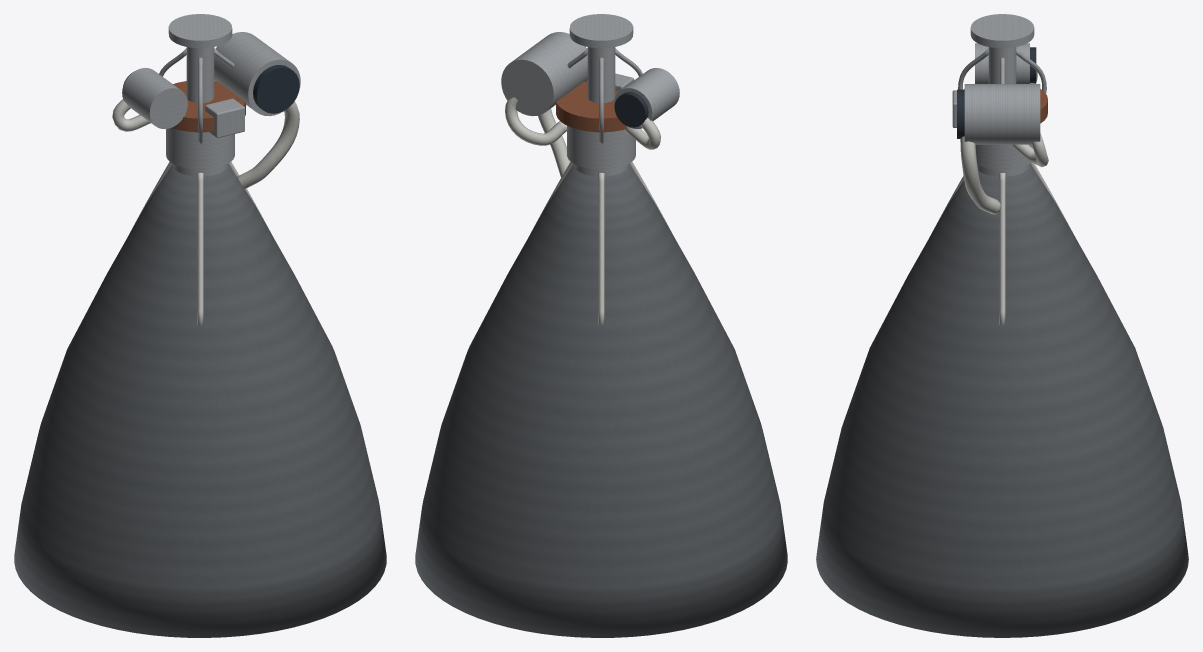
3 renders of one model, left to right at view 1: azimuth 30°, elevation 25°; view 2: azimuth 150°, elevation 25°; view 3: azimuth 270°, elevation 25°, orthographic.
Visible parts, largest first — view 1: BE3U_VacuumNozzle, Hydrogen_Turbopump, Oxygen_Pump, Combustion_Chamber.002, Gimbal_Flange.002, Hydrogen_PumpCap, Hydrogen_Feed.002, Gimbal_Stem.018, Injector_Manifold.002, Valve_Housing, Nozzle_CoolingLine.002, Oxygen_Feed; view 2: BE3U_VacuumNozzle, Hydrogen_Turbopump, Combustion_Chamber.002, Injector_Manifold.002, Gimbal_Flange.002, Oxygen_Pump, Gimbal_Stem.018, Expander_Return, Nozzle_CoolingLine.001, Oxygen_PumpCap, Hydrogen_Feed.002, Oxygen_Feed; view 3: BE3U_VacuumNozzle, Hydrogen_Turbopump, Gimbal_Flange.002, Hydrogen_Feed.002, Combustion_Chamber.002, Nozzle_CoolingLine, Oxygen_Pump, Gimbal_Stem.018, Expander_Return.
Part boxes in pixels (<box>): BE3U_VacuumNozzle: <box>14,164,386,637</box>; Hydrogen_Turbopump: <box>214,32,300,116</box>; Oxygen_Pump: <box>122,68,187,128</box>; Combustion_Chamber.002: <box>166,128,234,169</box>; Gimbal_Flange.002: <box>168,14,232,48</box>; Hydrogen_PumpCap: <box>253,65,299,113</box>; Hydrogen_Feed.002: <box>237,101,299,189</box>; Gimbal_Stem.018: <box>186,47,214,102</box>; Injector_Manifold.002: <box>171,81,245,132</box>; Valve_Housing: <box>205,98,244,138</box>; Nozzle_CoolingLine.002: <box>197,172,203,324</box>; Oxygen_Feed: <box>112,99,150,131</box>; BE3U_VacuumNozzle: <box>415,164,787,637</box>; Hydrogen_Turbopump: <box>501,32,587,116</box>; Combustion_Chamber.002: <box>567,125,635,169</box>; Injector_Manifold.002: <box>556,81,625,132</box>; Gimbal_Flange.002: <box>569,14,633,48</box>; Oxygen_Pump: <box>614,68,679,128</box>; Gimbal_Stem.018: <box>587,47,615,102</box>; Expander_Return: <box>505,97,566,145</box>; Nozzle_CoolingLine.001: <box>598,172,604,324</box>; Oxygen_PumpCap: <box>614,92,648,127</box>; Hydrogen_Feed.002: <box>538,108,570,177</box>; Oxygen_Feed: <box>624,117,660,149</box>; BE3U_VacuumNozzle: <box>816,164,1188,637</box>; Hydrogen_Turbopump: <box>964,84,1040,144</box>; Gimbal_Flange.002: <box>970,14,1034,48</box>; Hydrogen_Feed.002: <box>960,136,1000,214</box>; Combustion_Chamber.002: <box>975,144,1032,169</box>; Nozzle_CoolingLine: <box>999,173,1005,324</box>; Oxygen_Pump: <box>975,43,1029,83</box>; Gimbal_Stem.018: <box>988,47,1016,83</box>; Expander_Return: <box>1012,133,1048,166</box>.
Bounding box in the file's own units: 2.7 × 4.25 × 2.7.
Materials: 5 (4 with a texture image).
